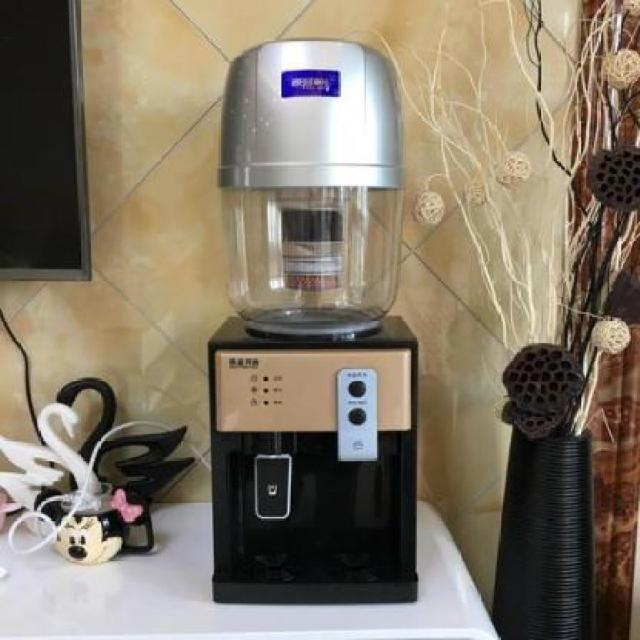cooler: (209, 37, 423, 605)
coolerbottle: (212, 36, 407, 336)
